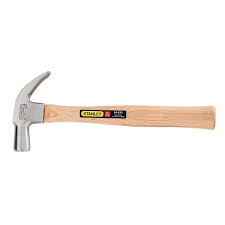martillu: (2, 64, 218, 169)
